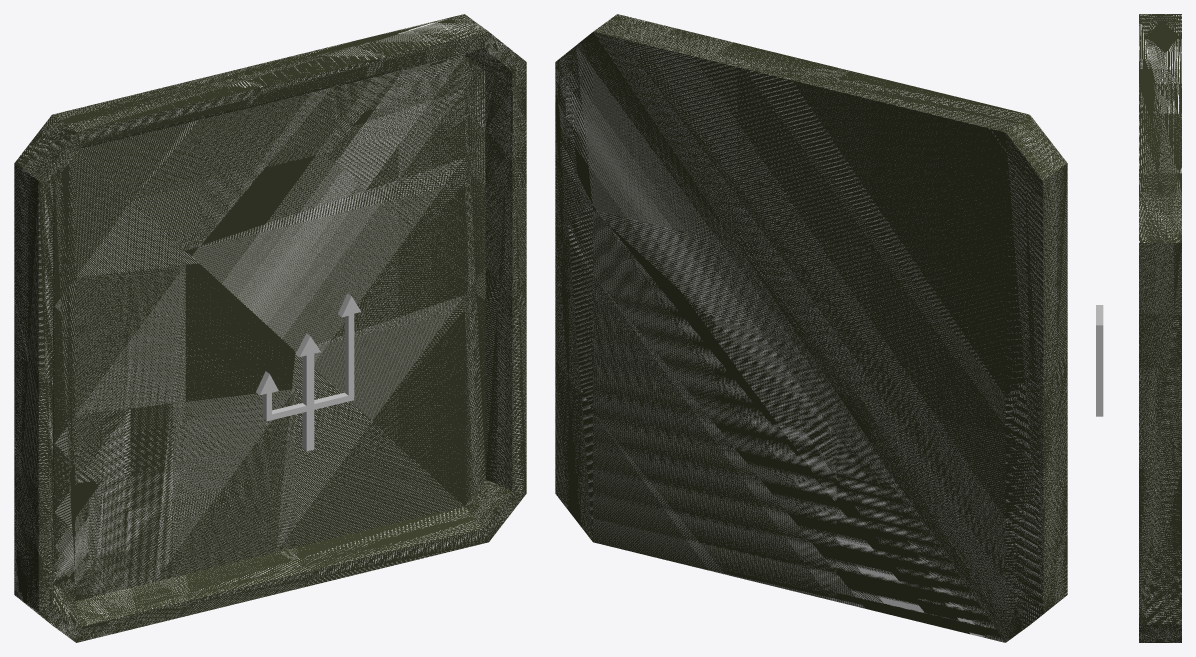
File: CM_-_Triton.obj
The picture shows the model from 3 angles, left to right: view 1: azimuth 30°, elevation 25°; view 2: azimuth 150°, elevation 25°; view 3: azimuth 270°, elevation 25°; orthographic projection. The views are drawn at different scales.
Parts seen in each view (by area): view 1: Button.001_ID13, Button_ID3, SM_CM_-_Triton_mesh.032; view 2: Button_ID3; view 3: Button_ID3, SM_CM_-_Triton_mesh.032.
Boxes of the visible parts, <box> form: Button.001_ID13: <box>53,48,512,626</box>; Button_ID3: <box>14,14,526,642</box>; SM_CM_-_Triton_mesh.032: <box>256,293,360,451</box>; Button_ID3: <box>555,14,1067,642</box>; Button_ID3: <box>1139,14,1181,642</box>; SM_CM_-_Triton_mesh.032: <box>1096,305,1103,416</box>.
Size of the model in its own units: 1 by 1 by 0.1728.
